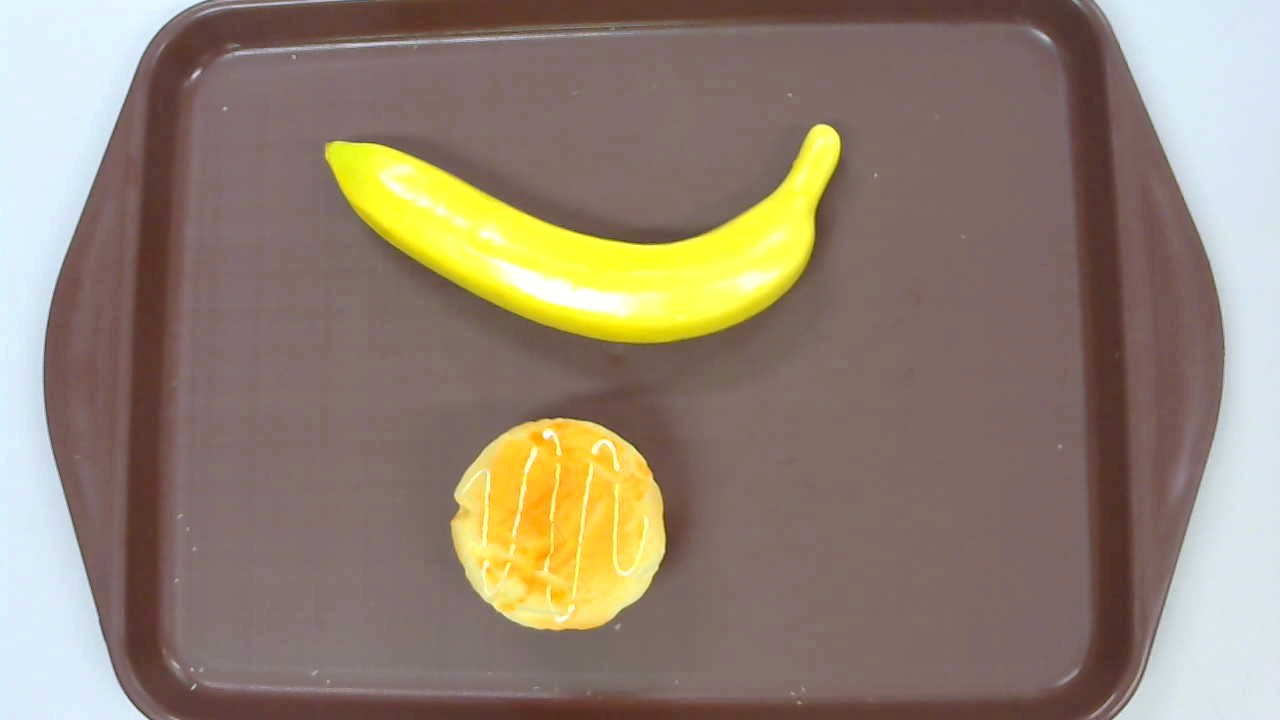banana: (323, 123, 841, 345)
cupcake: (447, 416, 666, 633)
